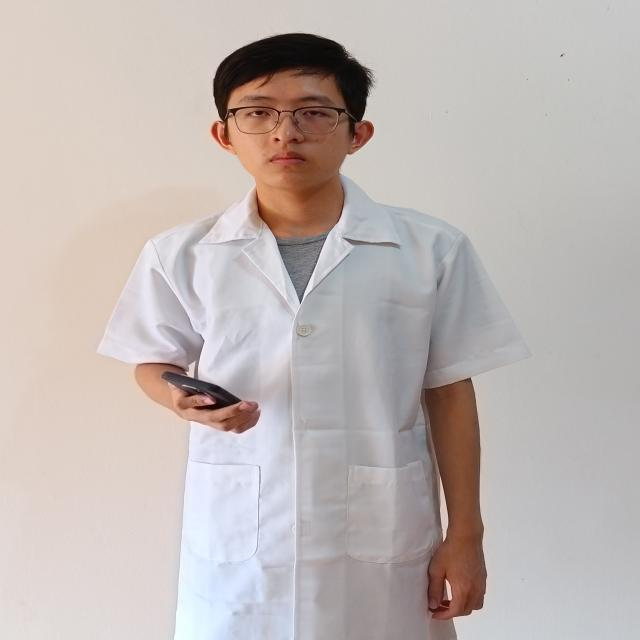person_with_labcoat: (99, 34, 528, 640)
